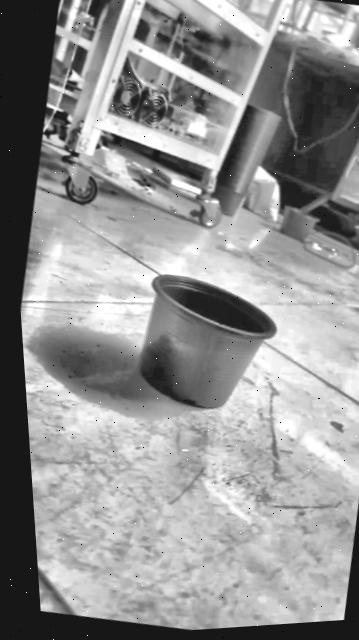pot: (126, 263, 289, 424)
